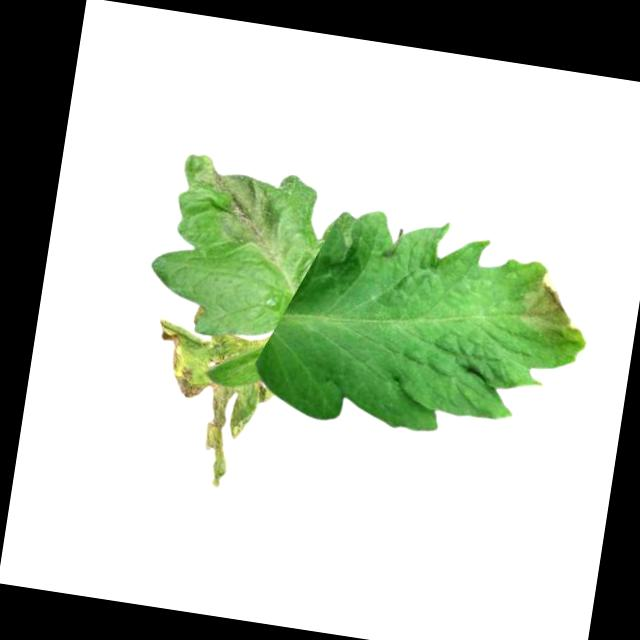Late_blight: (135, 315, 276, 490), (176, 151, 296, 259), (515, 270, 588, 339)
